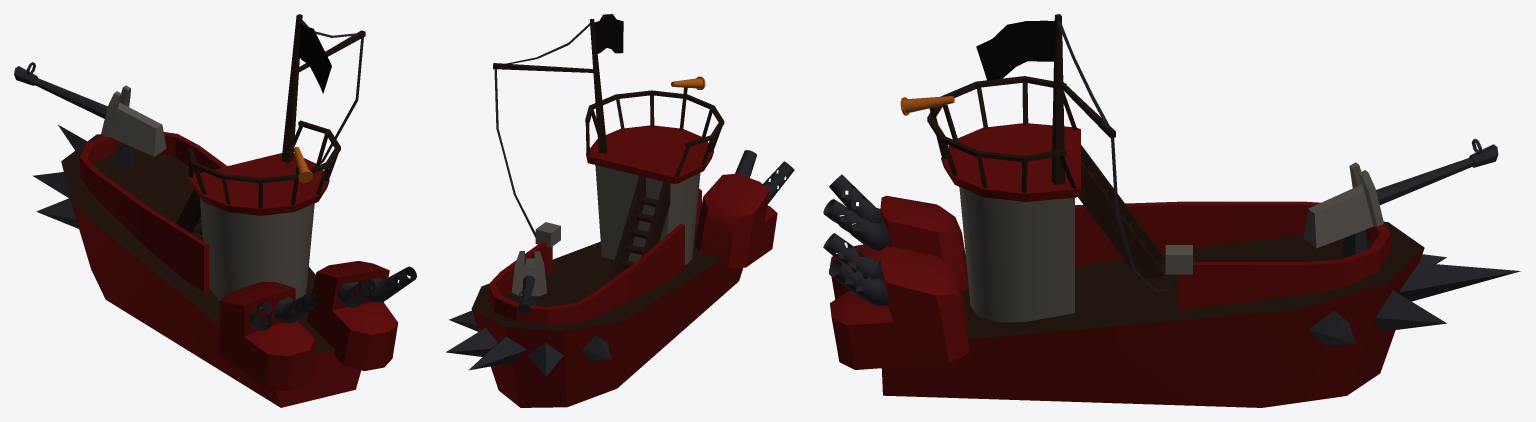
Rendered from ship_light.obj.
3 views of the same model, side by side, from view 1: azimuth 30°, elevation 25°; view 2: azimuth 150°, elevation 25°; view 3: azimuth 270°, elevation 25° (orthographic). The views are drawn at different scales.
Parts seen in each view (by area): view 1: Cube.075_Cube.116, Cube.007_Cube.028, Cube.006_Cube.027, Circle.001_Circle.009, Cube.008_Cube.029, Cube.010_Cube.037, Cylinder.010_Cylinder.020, Cylinder.008_Cylinder.018, Cube.011_Cube.038, Circle.004_Circle.011, Plane.004_Plane.007, Circle.008_Circle.016 (+4 smaller); view 2: Cube.075_Cube.116, Cube.006_Cube.027, Circle.001_Circle.009, Cube.007_Cube.028, Cube.011_Cube.038, Cube.010_Cube.037, Cube.008_Cube.029, Cube.016_Cube.046, Circle.008_Circle.016, Circle.004_Circle.011, Plane.004_Plane.007, Cube.015_Cube.045 (+5 smaller); view 3: Cube.075_Cube.116, Cube.006_Cube.027, Cube.007_Cube.028, Circle.001_Circle.009, Cube.008_Cube.029, Cube.011_Cube.038, Plane.004_Plane.007, Cube.016_Cube.046, Cylinder.010_Cylinder.020, Cylinder.008_Cylinder.018, Cube.010_Cube.037, Circle.004_Circle.011 (+5 smaller).
Part boxes in pixels (x1,y1,x2,y2): Cube.075_Cube.116: (61, 134, 361, 407); Cube.007_Cube.028: (219, 261, 398, 390); Cube.006_Cube.027: (188, 153, 329, 301); Circle.001_Circle.009: (80, 132, 226, 291); Cube.008_Cube.029: (14, 62, 166, 156); Cube.010_Cube.037: (281, 14, 365, 162); Cylinder.010_Cylinder.020: (274, 278, 375, 323); Cylinder.008_Cylinder.018: (248, 266, 416, 330); Cube.011_Cube.038: (32, 125, 86, 228); Circle.004_Circle.011: (187, 120, 340, 183); Plane.004_Plane.007: (298, 21, 331, 93); Circle.008_Circle.016: (188, 126, 338, 208); Cube.075_Cube.116: (471, 227, 742, 407); Cube.006_Cube.027: (586, 125, 713, 264); Circle.001_Circle.009: (488, 223, 684, 324); Cube.007_Cube.028: (694, 173, 777, 268); Cube.011_Cube.038: (446, 310, 610, 376); Cube.010_Cube.037: (493, 19, 607, 153); Cube.008_Cube.029: (511, 251, 546, 314); Cube.016_Cube.046: (608, 175, 645, 281); Circle.008_Circle.016: (585, 87, 721, 176); Circle.004_Circle.011: (585, 90, 724, 147); Plane.004_Plane.007: (594, 14, 623, 53); Cube.015_Cube.045: (641, 181, 670, 257); Cube.075_Cube.116: (881, 221, 1424, 407); Cube.006_Cube.027: (941, 123, 1080, 322); Cube.007_Cube.028: (830, 195, 969, 369); Circle.001_Circle.009: (1075, 201, 1390, 310); Cube.008_Cube.029: (1303, 138, 1498, 248); Cube.011_Cube.038: (1309, 254, 1520, 345); Plane.004_Plane.007: (976, 20, 1055, 81); Cube.016_Cube.046: (1078, 160, 1164, 278); Cylinder.010_Cylinder.020: (823, 199, 889, 278); Cylinder.008_Cylinder.018: (829, 174, 888, 306); Cube.010_Cube.037: (1051, 14, 1115, 184); Circle.004_Circle.011: (927, 76, 1066, 162).
Size of the model in its own units: 26.53 by 35.14 by 57.1.
